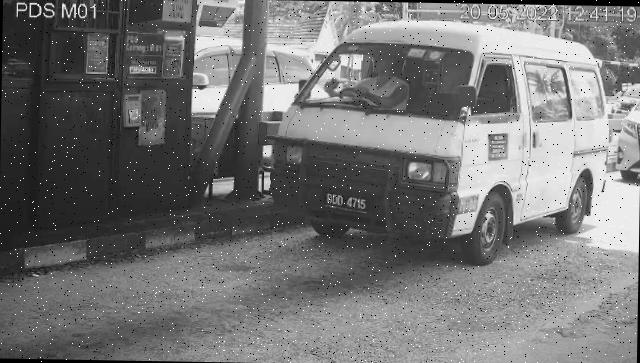License_Plate: (320, 187, 378, 221)
van: (270, 20, 612, 268)
